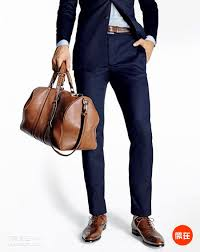F_belt: (99, 23, 141, 38)
F_dress pants: (74, 45, 160, 220)
